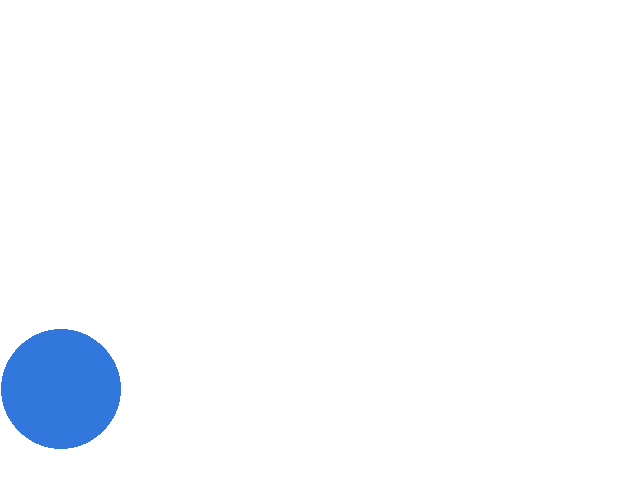fsoc_target: (1, 329, 121, 449)
